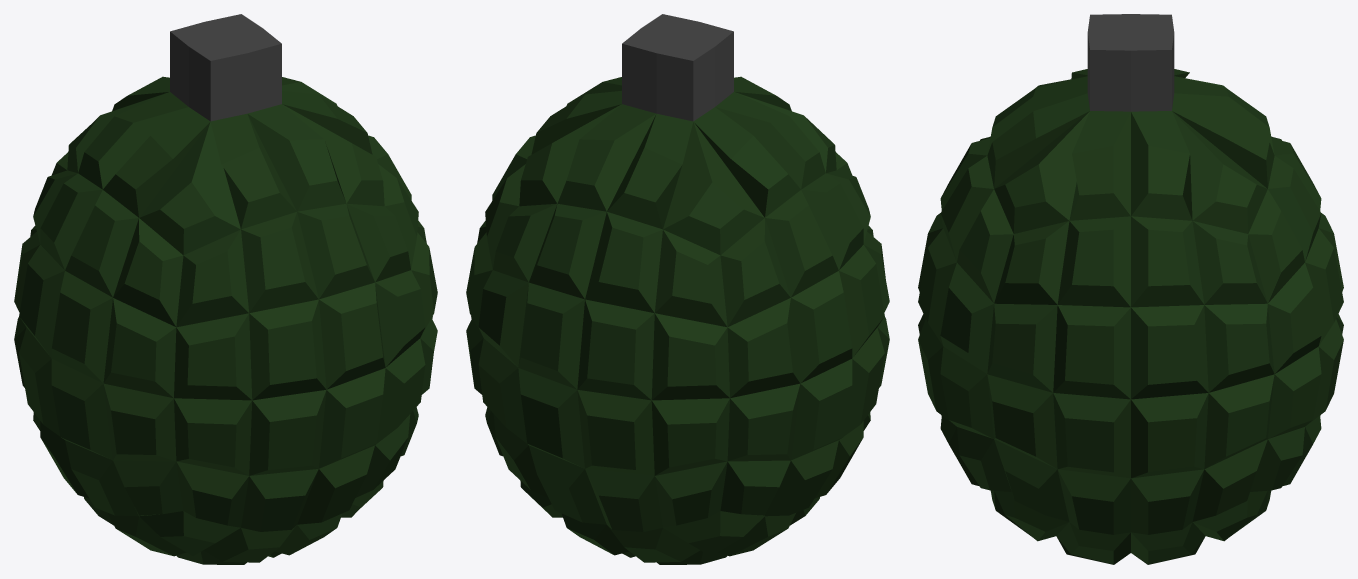
Rendered from SM_Grenade.fbx.
3 views of the same model, side by side, from view 1: azimuth 30°, elevation 25°; view 2: azimuth 150°, elevation 25°; view 3: azimuth 270°, elevation 25° (orthographic).
Visible parts, largest first — view 1: SM_Grenade; view 2: SM_Grenade; view 3: SM_Grenade.
Boxes of the visible parts, bbox=[...] form: SM_Grenade: bbox=[14, 14, 437, 564]; SM_Grenade: bbox=[466, 14, 889, 564]; SM_Grenade: bbox=[918, 14, 1343, 564].
Size of the model in its own units: 684 by 914 by 684.
